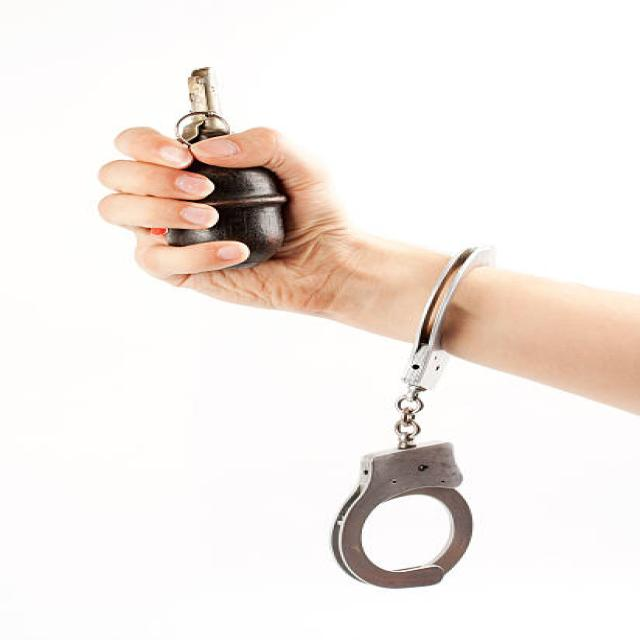grenade: (165, 59, 293, 276)
